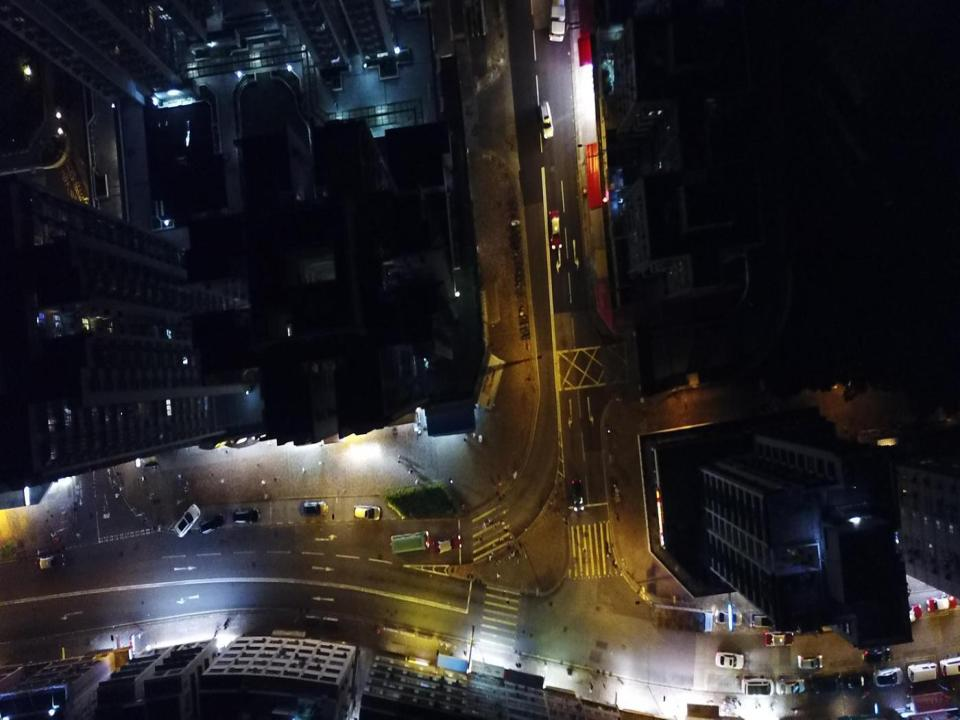car: (173, 503, 201, 538), (741, 677, 774, 698), (34, 551, 66, 572), (873, 666, 904, 687), (548, 208, 563, 250), (538, 100, 554, 139), (926, 592, 957, 612), (809, 674, 839, 694), (199, 512, 225, 534), (715, 650, 745, 669), (776, 678, 806, 697), (570, 475, 585, 511), (763, 630, 794, 647), (862, 645, 891, 663), (436, 534, 462, 554), (901, 603, 923, 626), (232, 506, 260, 524), (352, 503, 380, 521), (845, 671, 871, 690), (798, 652, 824, 671), (715, 610, 743, 626), (938, 656, 960, 676), (302, 500, 328, 516), (752, 614, 776, 628)
truck: (652, 604, 713, 633), (391, 530, 430, 554), (548, 0, 566, 43)
van: (908, 662, 940, 682)
